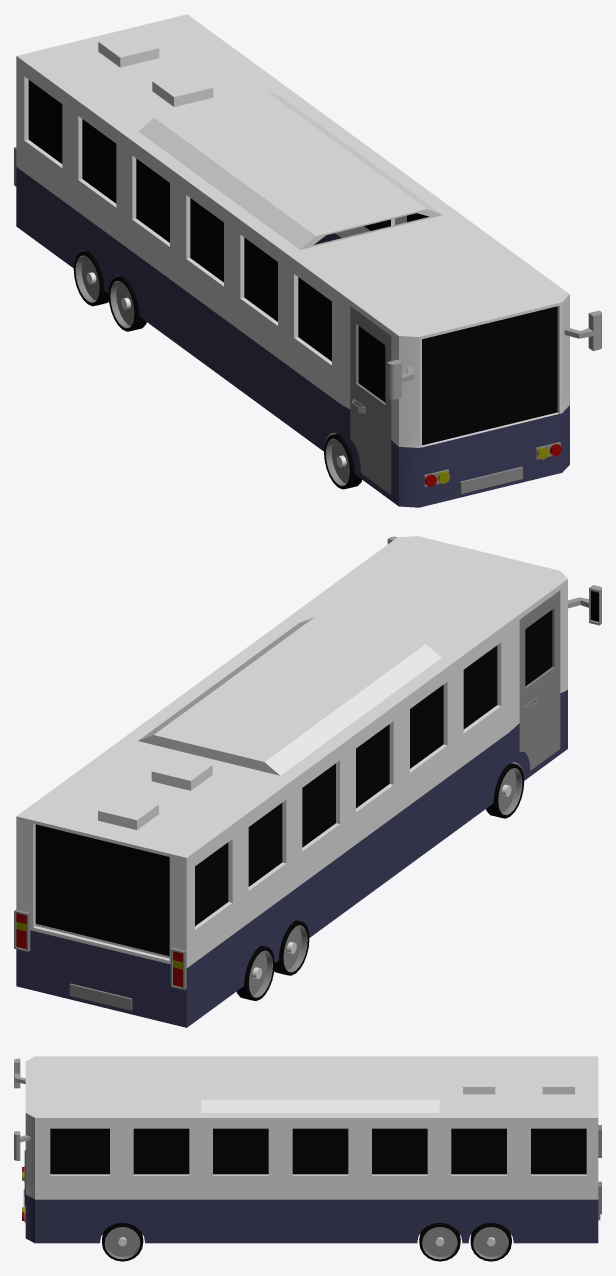
File: bus.fbx
The picture shows the model from 3 angles, top to bottom: view 1: azimuth 30°, elevation 25°; view 2: azimuth 150°, elevation 25°; view 3: azimuth 270°, elevation 25°; orthographic projection. The views are drawn at different scales.
Visible parts, largest first — view 1: busbody, busrearrightwheel, busfrontrightwheel, busrearrightwheel1, busplate, busmirror, busmirror1; view 2: busbody, busfrontrightwheel, busrearrightwheel1, busrearrightwheel, busplate1, busmirror1; view 3: busbody, busrearleftwheel, busrearleftwheel1, busfrontleftwheel.
Boxes of the visible parts, bbox=[...] form: busbody: bbox=[14, 14, 569, 507]; busrearrightwheel: bbox=[108, 276, 146, 331]; busfrontrightwheel: bbox=[324, 434, 361, 489]; busrearrightwheel1: bbox=[73, 251, 108, 306]; busplate: bbox=[459, 466, 522, 493]; busmirror: bbox=[564, 310, 601, 351]; busmirror1: bbox=[387, 359, 414, 399]; busbody: bbox=[14, 536, 567, 1027]; busfrontrightwheel: bbox=[486, 763, 524, 818]; busrearrightwheel1: bbox=[236, 945, 274, 1000]; busrearrightwheel: bbox=[274, 920, 309, 975]; busplate1: bbox=[69, 983, 132, 1010]; busmirror1: bbox=[568, 585, 601, 625]; busbody: bbox=[24, 1056, 601, 1243]; busrearleftwheel: bbox=[419, 1222, 460, 1261]; busrearleftwheel1: bbox=[470, 1222, 511, 1261]; busfrontleftwheel: bbox=[102, 1222, 143, 1261].
Size of the model in its own units: 189 by 174 by 614.
